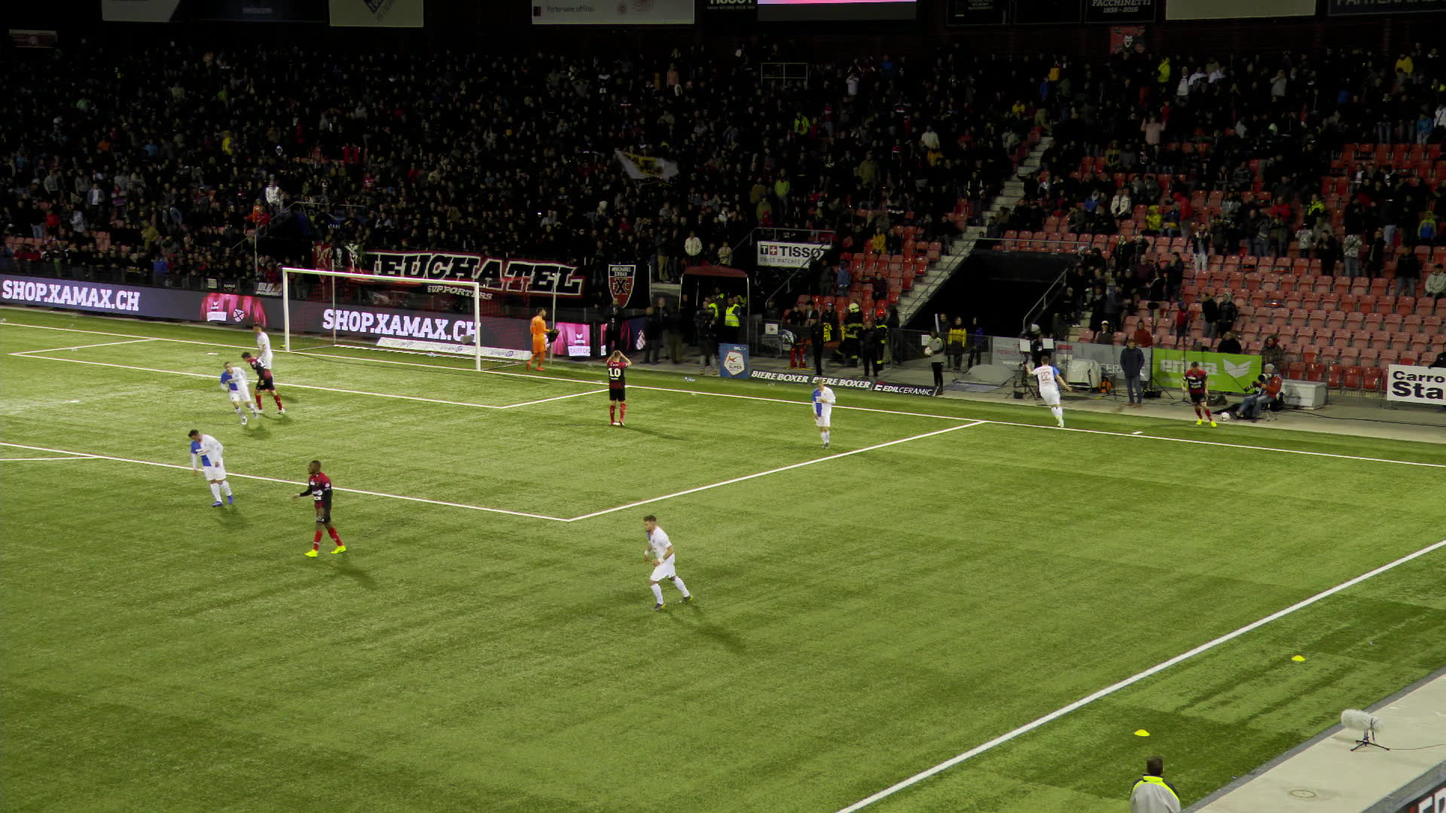ball: (1220, 412, 1228, 420)
player: (293, 458, 346, 558), (642, 514, 691, 611), (188, 428, 234, 507), (1027, 355, 1069, 428), (241, 351, 284, 414), (220, 360, 261, 425), (1180, 360, 1214, 427), (606, 349, 632, 427), (525, 306, 555, 372), (810, 381, 835, 449), (253, 324, 279, 388)
